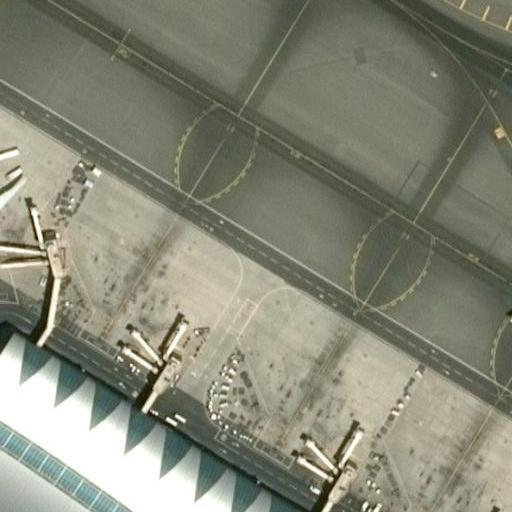Aircraft: (496, 252, 512, 391)
